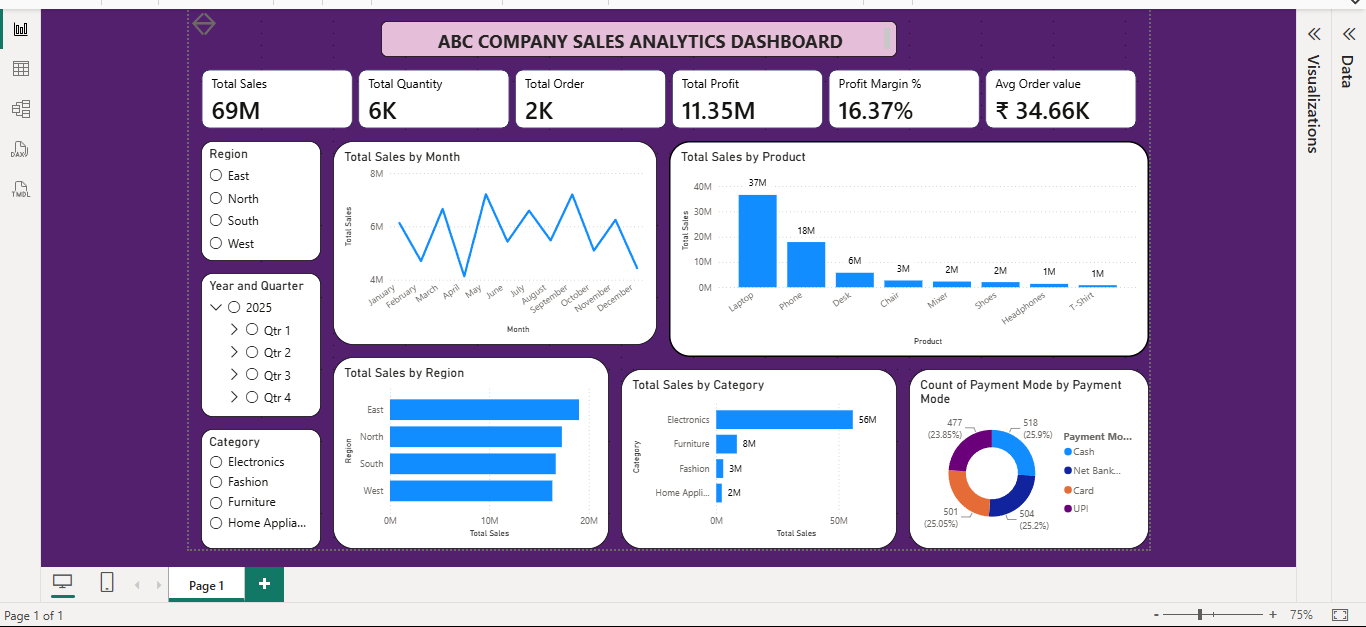

The page's visual inventory and layout, read from the dashboard file:
{"tool":"powerbi","page":{"name":"Page 1","canvas":[1280,720],"ordinal":0},"visuals":[{"type":"clusteredBarChart","fields":{"Category":["SalesData.Region"],"Y":["SalesData.Total Sales"]},"box":[192,464,336,256],"z":0},{"type":"lineChart","fields":{"Category":["SalesData.Order Date.Variation.Date Hierarchy.Month"],"Y":["SalesData.Total Sales"]},"box":[192,176,432,272],"z":1000},{"type":"clusteredBarChart","fields":{"Y":["SalesData.Total Sales"],"Category":["SalesData.Category"]},"box":[544,480,352,240],"z":2000},{"type":"lineClusteredColumnComboChart","fields":{"Category":["SalesData.Product"],"Y":["SalesData.Total Sales"]},"box":[640,176,624,288],"z":3000},{"type":"donutChart","fields":{"Category":["SalesData.Payment Mode"],"Y":["CountNonNull(SalesData.Payment Mode)"]},"box":[912,480,352,240],"z":4000},{"type":"textbox","box":[256,16,688,48],"z":5000},{"type":"cardVisual","fields":{"Data":["SalesData.Total Sales","SalesData.Total Quantity","SalesData.Total Order","SalesData.Total Profit","SalesData.Profit Margin %","SalesData.Avg Order value"]},"box":[0,64,1280,112],"z":6000},{"type":"actionButton","box":[0,0,100,40],"z":7000},{"type":"actionButton","box":[0,0,100,40],"z":8000},{"type":"listSlicer","fields":{"Values":["SalesData.Order Date.Variation.Date Hierarchy.Year","SalesData.Order Date.Variation.Date Hierarchy.Quarter","SalesData.Order Date.Variation.Date Hierarchy.Month","SalesData.Order Date.Variation.Date Hierarchy.Day"]},"box":[16,368,160,176],"z":9000},{"type":"listSlicer","fields":{"Values":["SalesData.Region"]},"box":[16,176,160,176],"z":10000},{"type":"listSlicer","fields":{"Values":["SalesData.Category"]},"box":[16,560,160,160],"z":11000}]}

Visuals, with their boxes on the page's 1280x720 design canvas (x1, y1, x2, y2). These are canvas units, not pixel positions in the 1366x627 screenshot, which may show the page scaled, cropped or inside an application window:
clusteredBarChart - SalesData.Region x SalesData.Total Sales: pyautogui.locateOnScreen(192, 464, 528, 720)
lineChart - SalesData.Order Date.Variation.Date Hierarchy.Month x SalesData.Total Sales: pyautogui.locateOnScreen(192, 176, 624, 448)
clusteredBarChart - SalesData.Total Sales x SalesData.Category: pyautogui.locateOnScreen(544, 480, 896, 720)
lineClusteredColumnComboChart - SalesData.Product x SalesData.Total Sales: pyautogui.locateOnScreen(640, 176, 1264, 464)
donutChart - SalesData.Payment Mode x CountNonNull(SalesData.Payment Mode): pyautogui.locateOnScreen(912, 480, 1264, 720)
textbox: pyautogui.locateOnScreen(256, 16, 944, 64)
cardVisual - SalesData.Total Sales x SalesData.Total Quantity: pyautogui.locateOnScreen(0, 64, 1280, 176)
actionButton: pyautogui.locateOnScreen(0, 0, 100, 40)
actionButton: pyautogui.locateOnScreen(0, 0, 100, 40)
listSlicer - SalesData.Order Date.Variation.Date Hierarchy.Year x SalesData.Order Date.Variation.Date Hierarchy.Quarter: pyautogui.locateOnScreen(16, 368, 176, 544)
listSlicer - SalesData.Region: pyautogui.locateOnScreen(16, 176, 176, 352)
listSlicer - SalesData.Category: pyautogui.locateOnScreen(16, 560, 176, 720)
